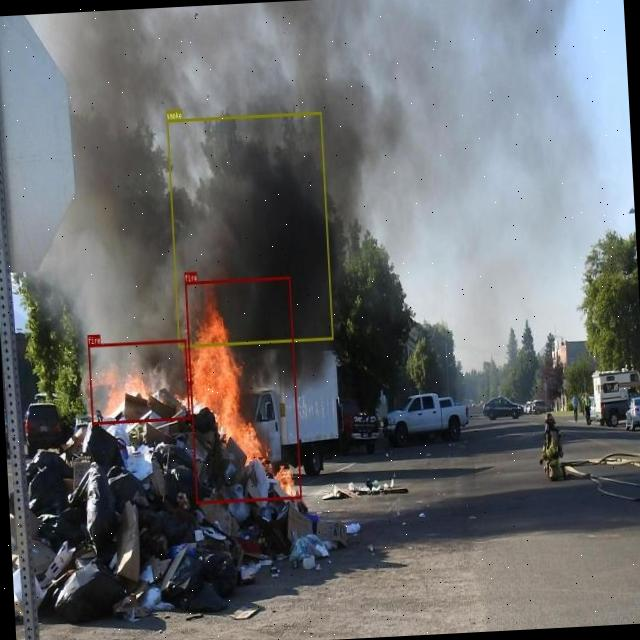fire: (185, 276, 301, 504), (88, 339, 190, 424)
smoke: (166, 110, 333, 348)
